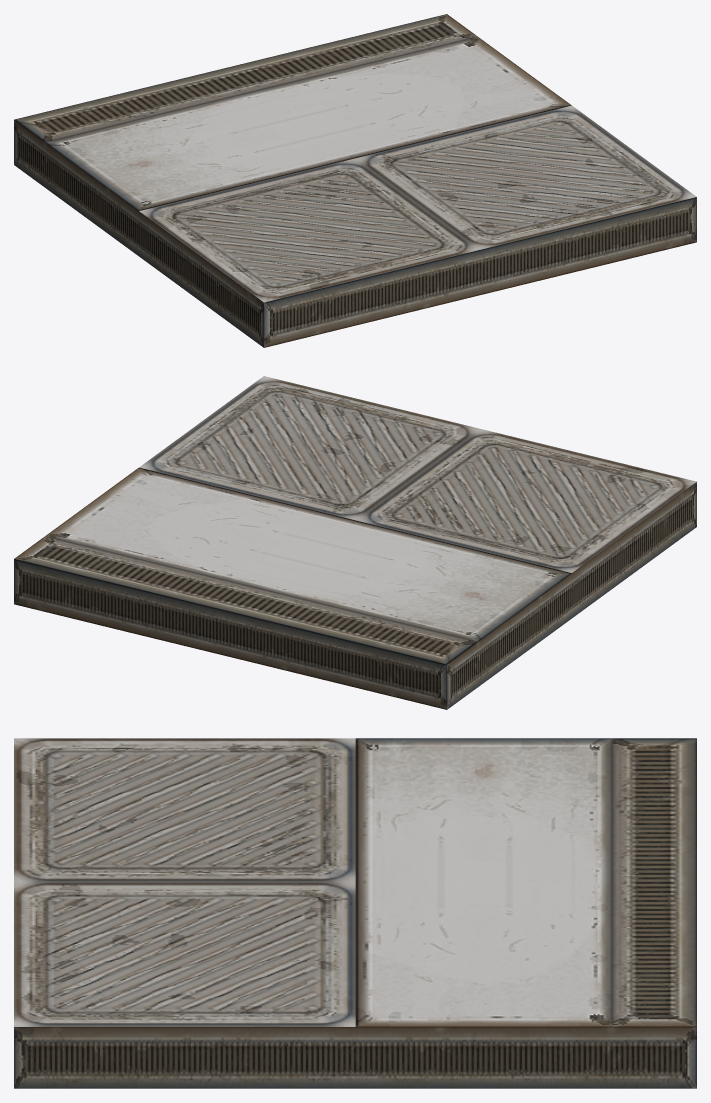
Rendered from scifi_floor_mosaic_3.FBX.
3 views of the same model, one above another, from view 1: azimuth 30°, elevation 25°; view 2: azimuth 150°, elevation 25°; view 3: azimuth 270°, elevation 25° (orthographic). The views are drawn at different scales.
Visible parts, largest first — view 1: Plane139; view 2: Plane139; view 3: Plane139.
Part boxes in pixels (box(x1,y1,x2,y2)): Plane139: box(14, 14, 696, 347); Plane139: box(14, 376, 696, 709); Plane139: box(14, 738, 696, 1088).
Bounding box in the file's own units: 254 × 25.4 × 254.
